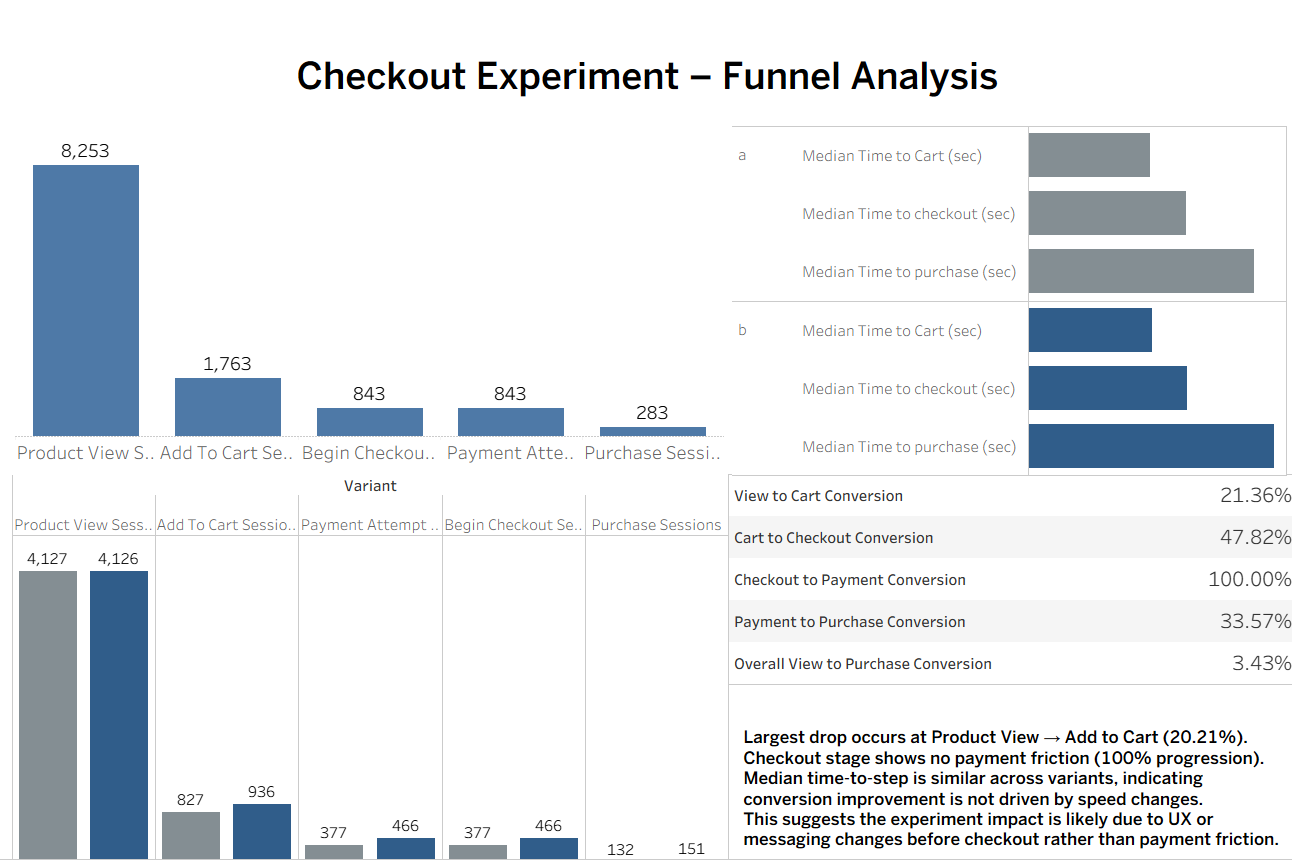

The dashboard page shown, as its layout file describes it:
{"tool":"tableau","page":{"name":"Checkout Experiment – Funnel Analysis","canvas":[1300,900],"ordinal":1},"visuals":[{"type":"text","box":[5,43,1293,73]},{"type":"worksheet","title":"Funnel_Overall","mark":"Automatic","box":[15,125,717,358]},{"type":"worksheet","title":"Funnel step","mark":"Automatic","rows":["variant"],"box":[732,125,563,358]},{"type":"worksheet","title":"Funnel_Conversion_Rates","mark":"Text","box":[732,477,569,234]},{"type":"worksheet","title":"Funnel_By_Variant","mark":"Automatic","cols":["variant"],"box":[16,478,717,423]},{"type":"text","box":[744,692,548,202]}]}

Visuals, with their boxes on the page's 1300x900 design canvas (x1, y1, x2, y2). These are canvas units, not pixel positions in the 1292x860 screenshot, which may show the page scaled, cropped or inside an application window:
text: BBox(5, 43, 1298, 116)
"Funnel_Overall" worksheet: BBox(15, 125, 732, 483)
"Funnel step" worksheet: BBox(732, 125, 1295, 483)
"Funnel_Conversion_Rates" worksheet (Text marks): BBox(732, 477, 1301, 711)
"Funnel_By_Variant" worksheet: BBox(16, 478, 733, 901)
text: BBox(744, 692, 1292, 894)
